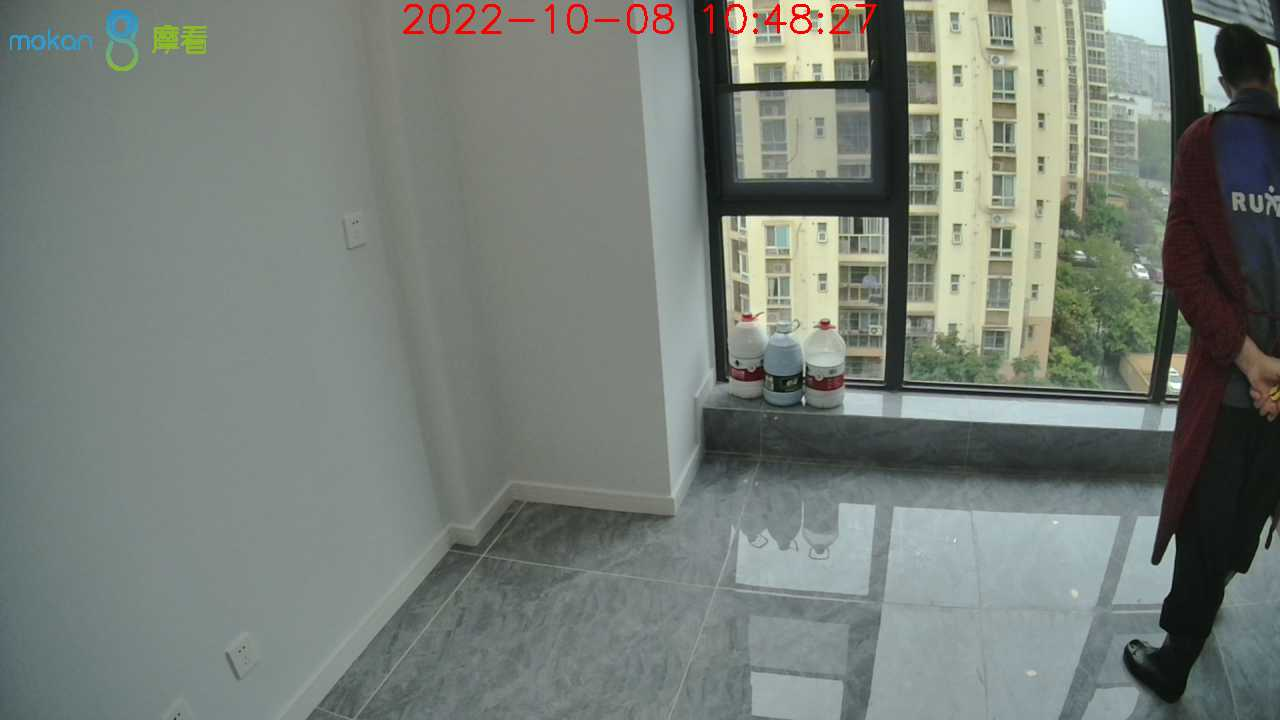window: (730, 2, 1280, 388), (1132, 22, 1280, 710)
